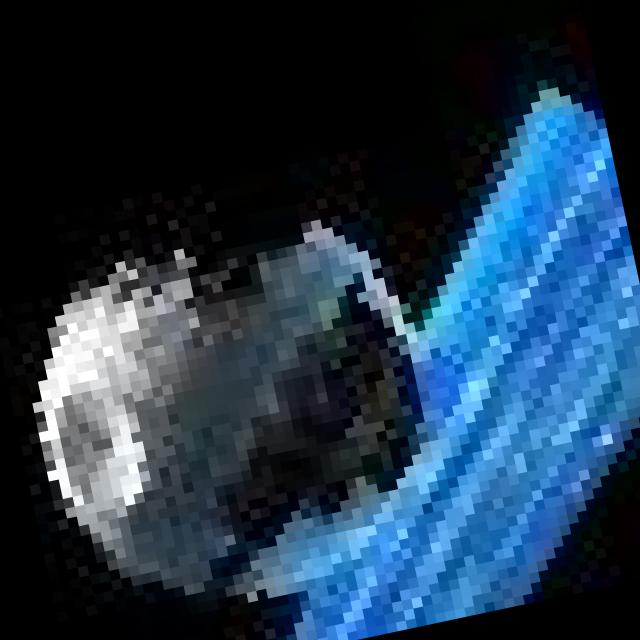Death Star: (3, 201, 444, 630)
